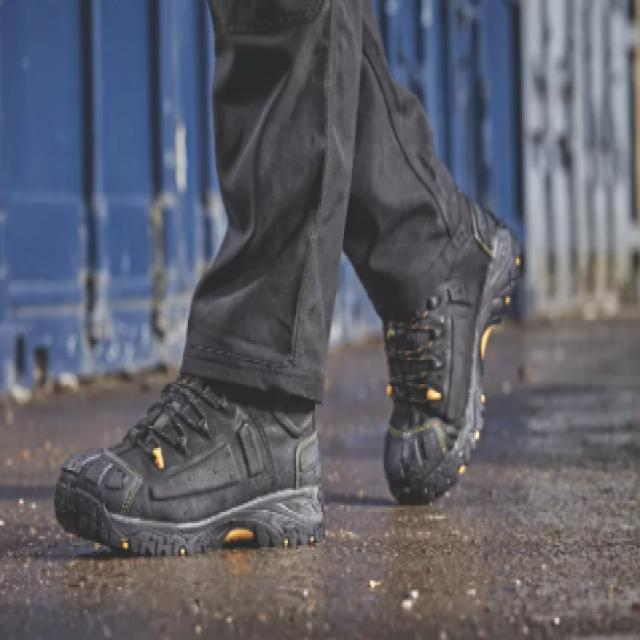boots: (48, 179, 523, 569)
